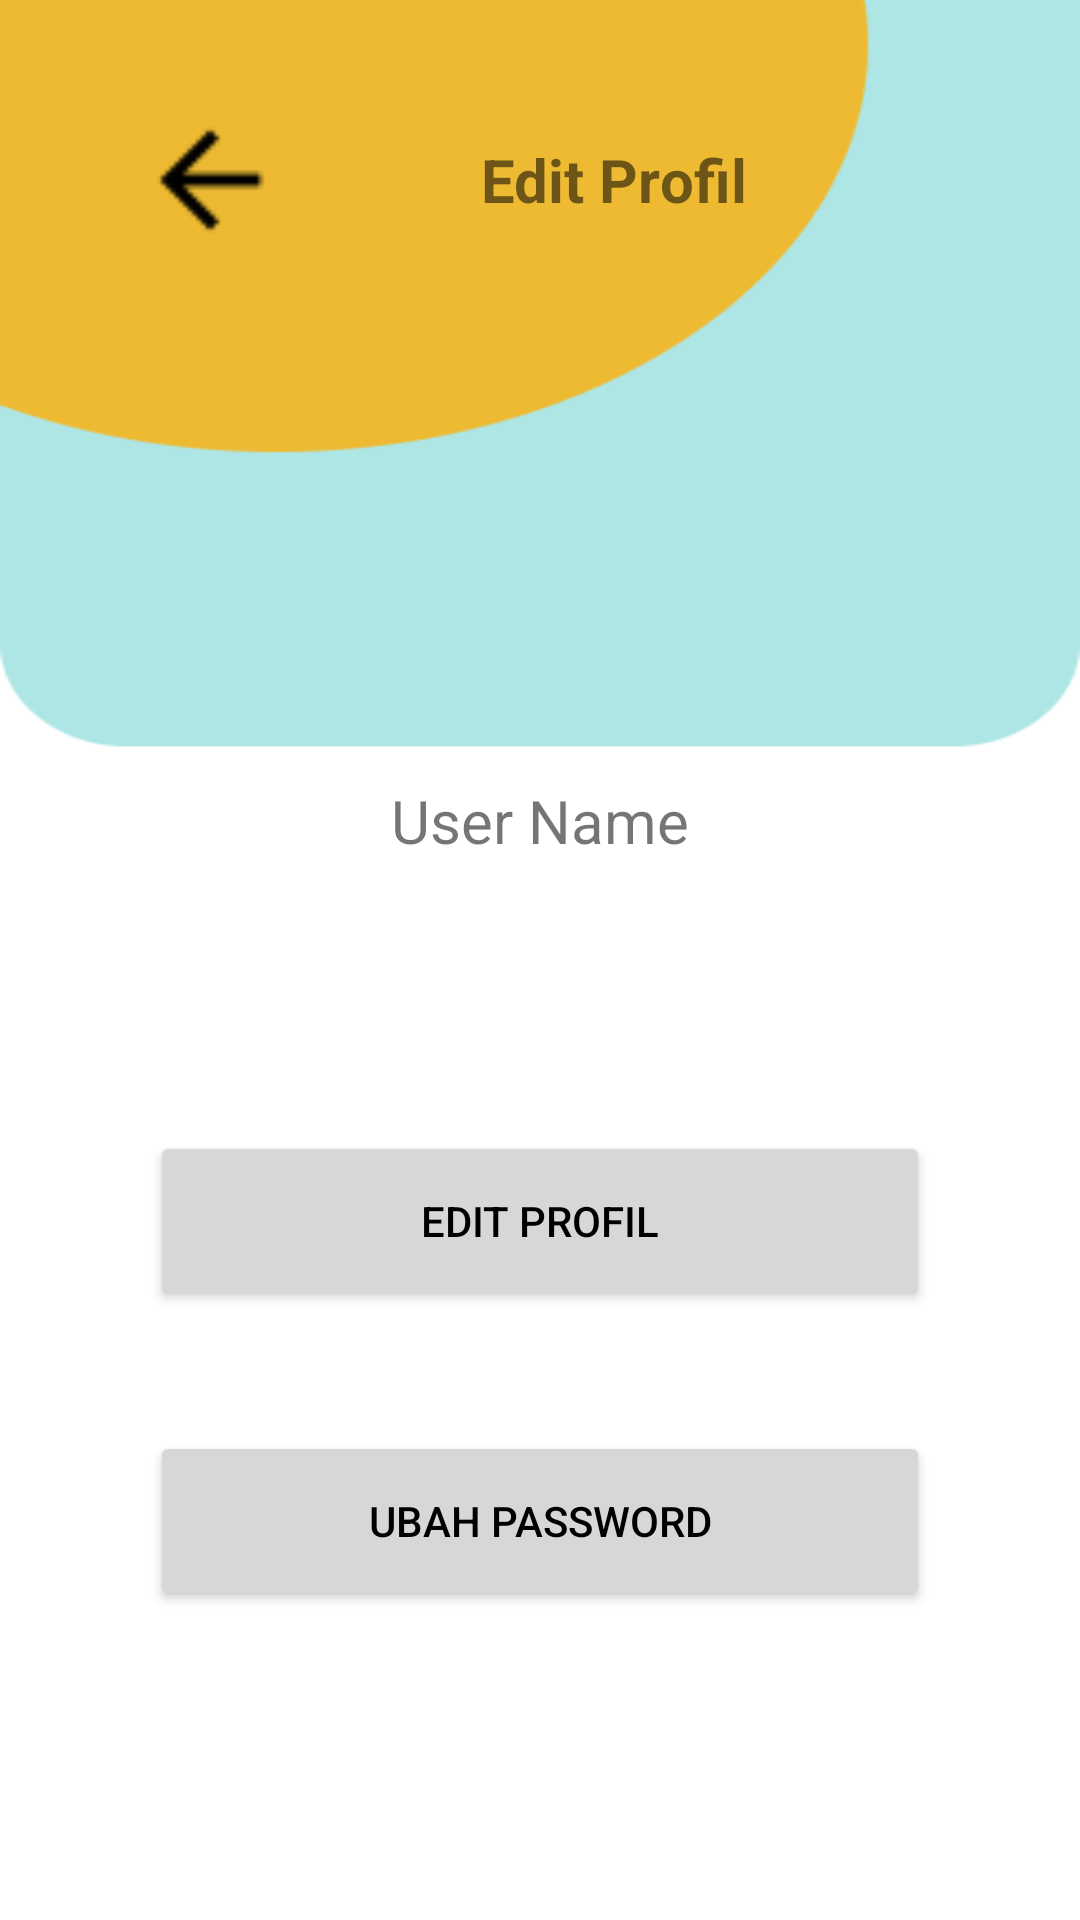

Point at icon controls on the screen. Image size 1080w x 1920h, points as (x,y).
arrow back: (212,180)
